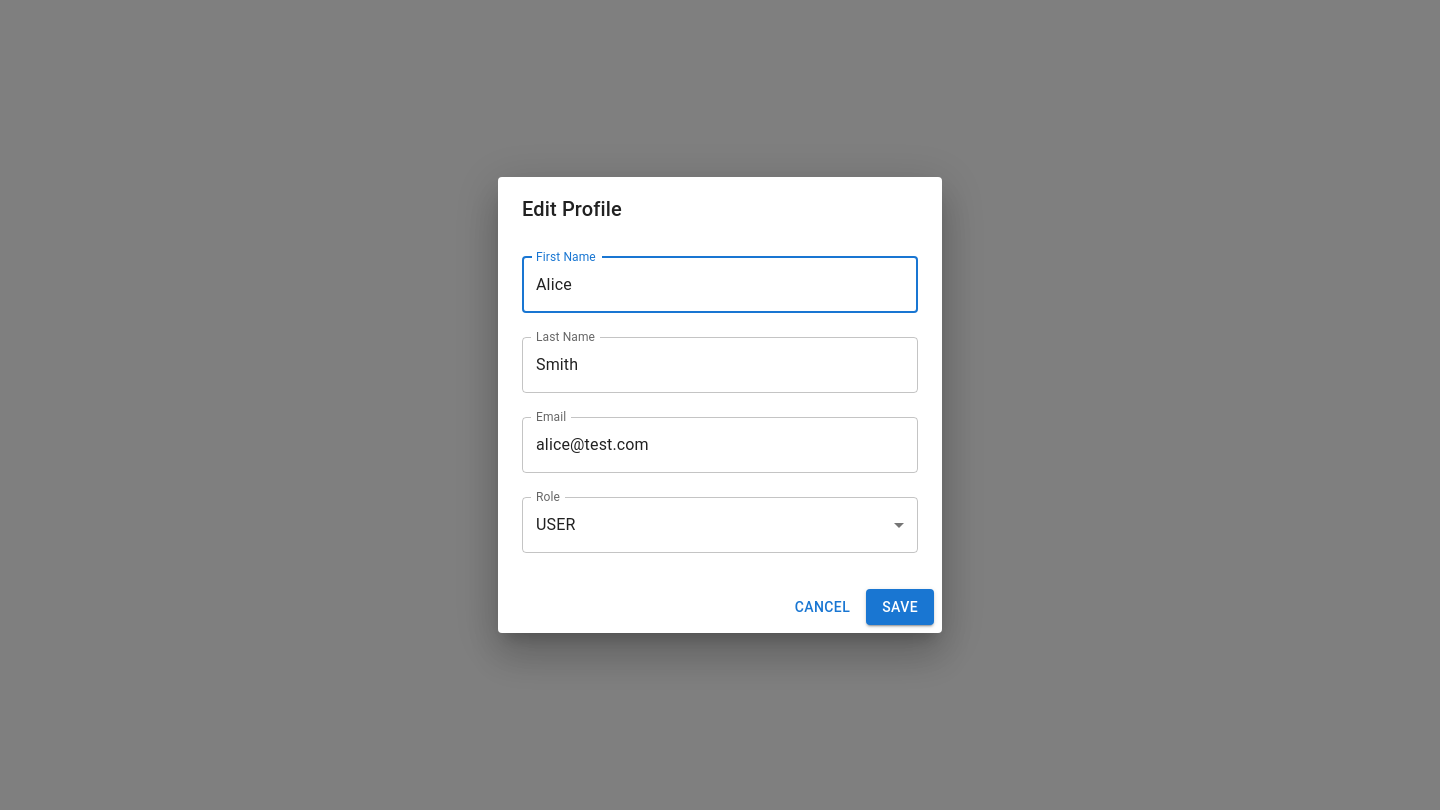
Test: ProfileFormDialog error paths › shows backend error when profile update fails
The width and height of the screenshot is (1440, 810).
Replace the text in the field labelled "Last Name" with "NewName" at (720, 365), box [522,337,918,393]
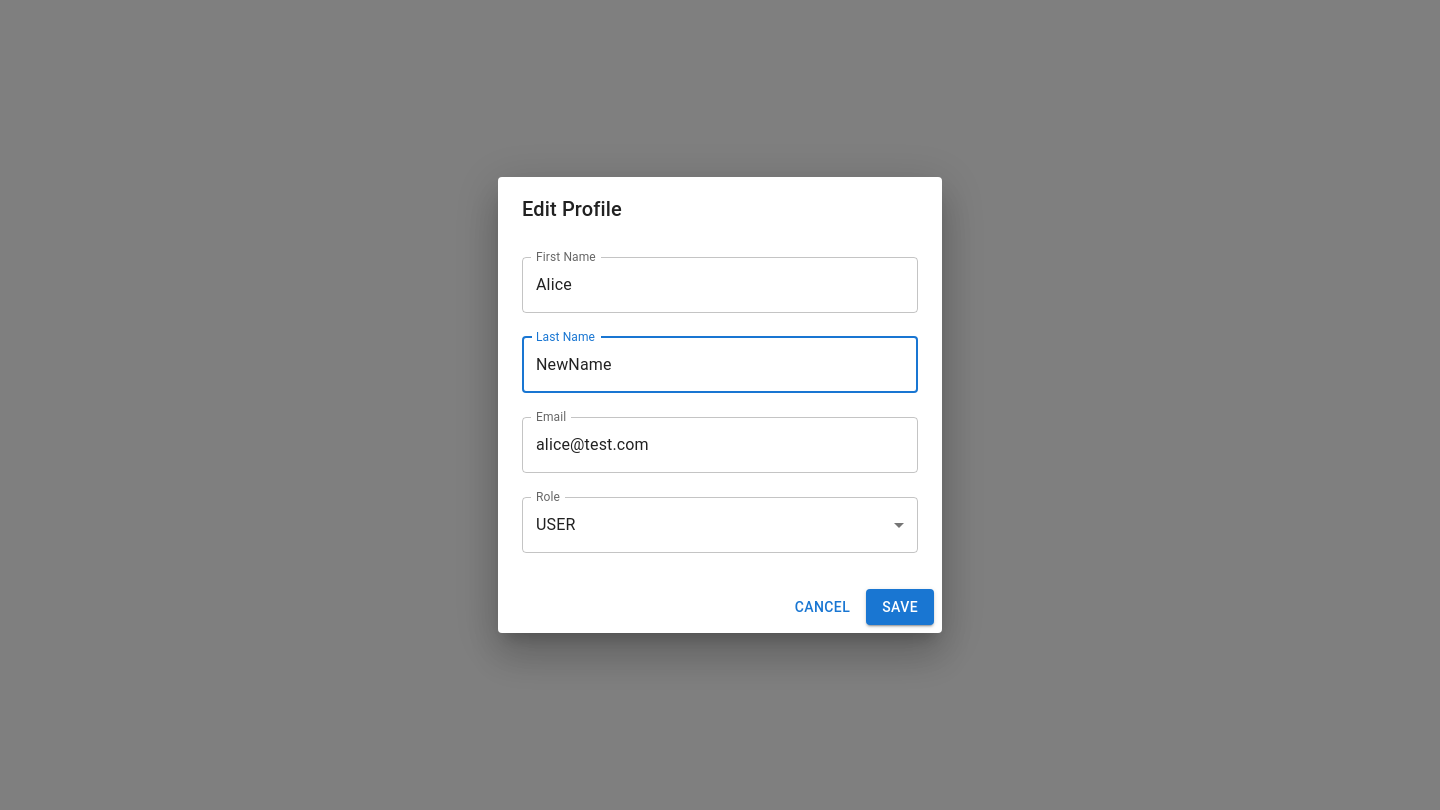
Click the button "Save" at (900, 607), box [866,589,934,625]
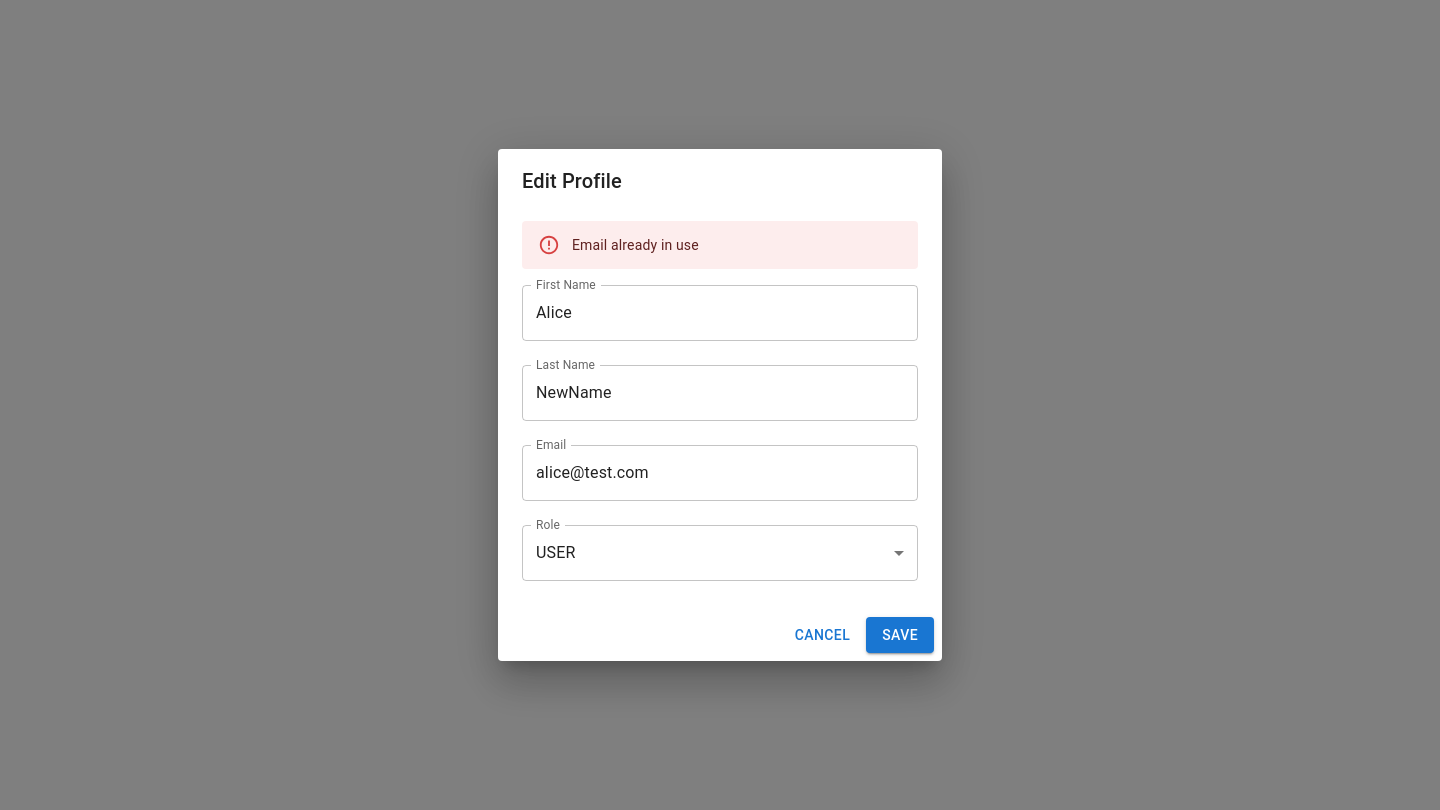
Result: the message reads "Email already in use" at [572,237,699,253]
